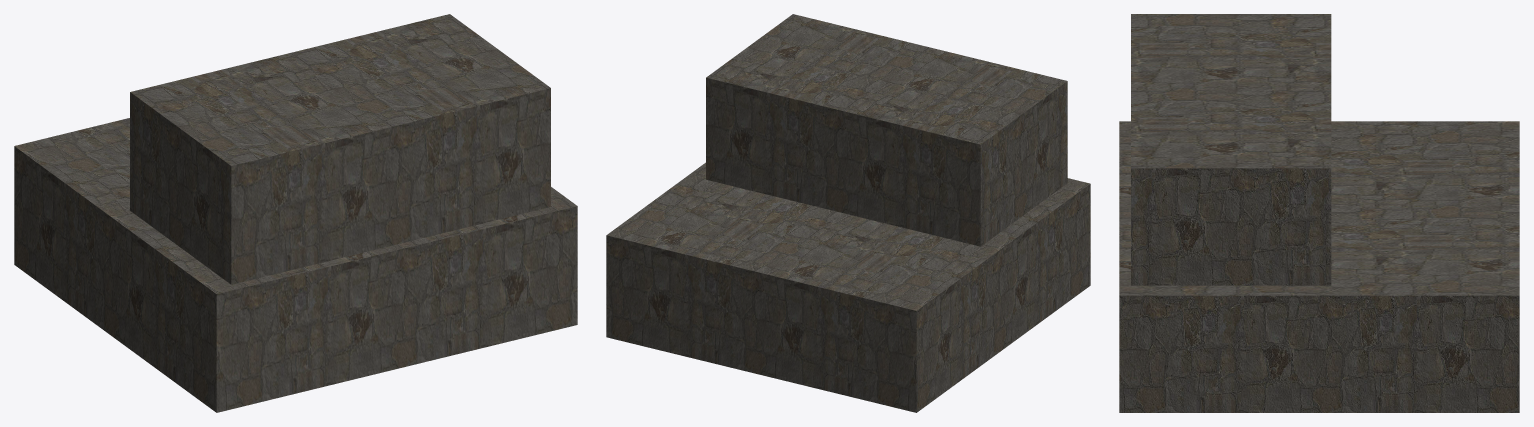
File: prop_mounting_block.glb
3 views of the same model, side by side, from view 1: azimuth 30°, elevation 25°; view 2: azimuth 150°, elevation 25°; view 3: azimuth 270°, elevation 25° (orthographic). The views are drawn at different scales.
Parts seen in each view (by area): view 1: prop_mounting_block; view 2: prop_mounting_block; view 3: prop_mounting_block.
Boxes of the visible parts, x1,y1,x2,y2 form: prop_mounting_block: (14, 14, 577, 412); prop_mounting_block: (606, 14, 1090, 412); prop_mounting_block: (1119, 14, 1519, 412).
Size of the model in its own units: 0.7 by 0.44 by 0.68.
Materials: 1 (1 with a texture image).
